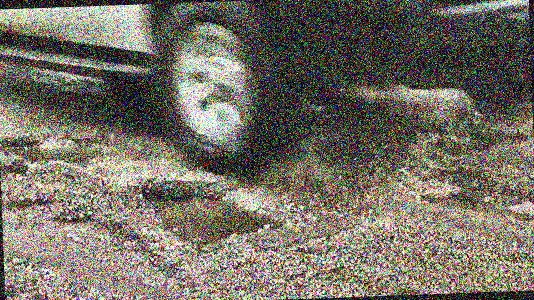pothole: (143, 175, 293, 251), (0, 129, 114, 179), (55, 203, 97, 225), (4, 195, 58, 211), (6, 290, 50, 300)
